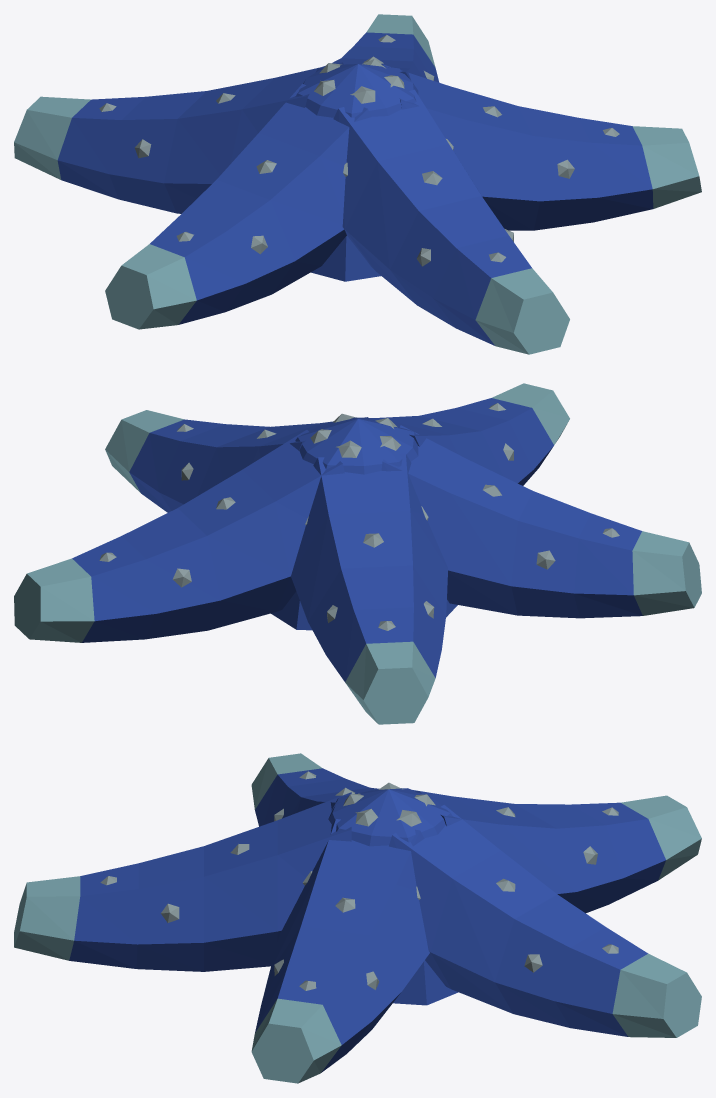
The model's file is blue-linckia-starfish-e07dd3.glb.
3 renders of one model, top to bottom at view 1: azimuth 30°, elevation 25°; view 2: azimuth 150°, elevation 25°; view 3: azimuth 270°, elevation 25°, orthographic.
Visible parts, largest first — view 1: starfish-body; view 2: starfish-body; view 3: starfish-body.
Part boxes in pixels (box(x1,y1,x2,y2)): starfish-body: box(14, 14, 701, 354); starfish-body: box(14, 383, 701, 724); starfish-body: box(14, 753, 701, 1083).
Bounding box in the file's own units: 0.18 × 0.049 × 0.1835.
